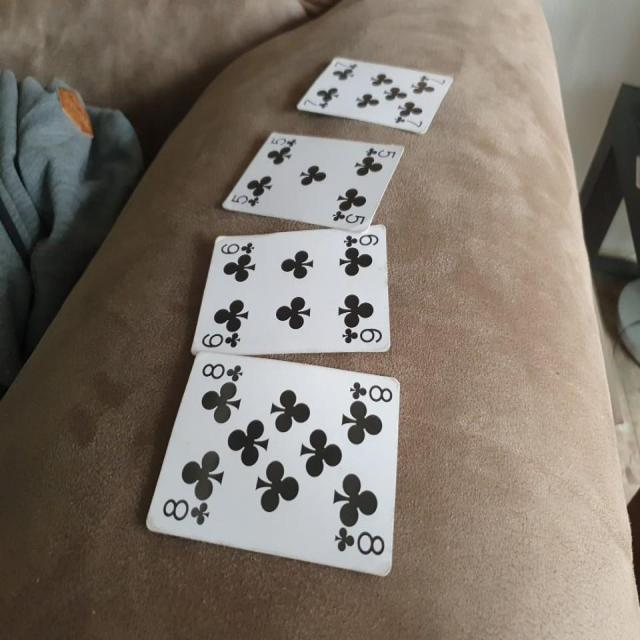5 Trefoils: (219, 130, 407, 232)
6 Trefoils: (190, 224, 392, 356)
7 Trefoils: (295, 55, 455, 136)
8 Trefoils: (144, 350, 403, 580)
